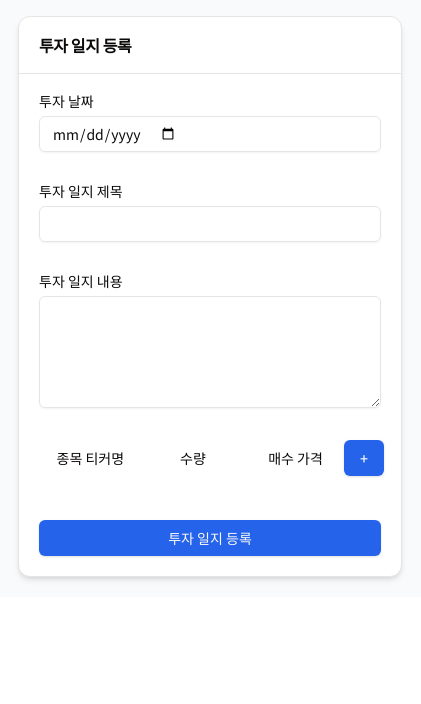
Test: DiaryAdd Test › 종목 추가 버튼 클릭 시 화면 렌더링
Click the button named "insert_asset_button": (364, 458) [344,440,384,476]
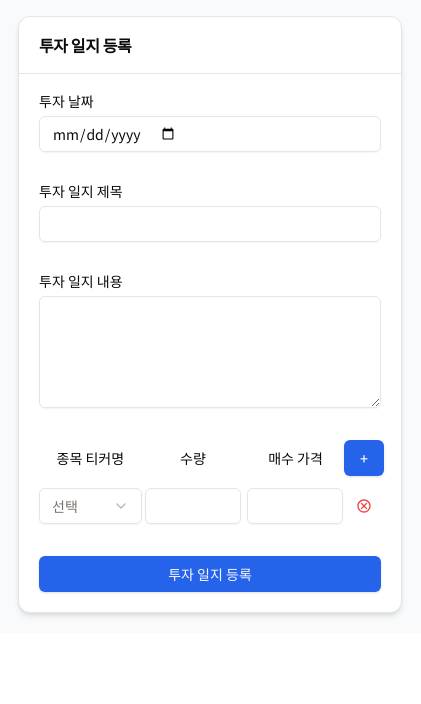
Click the button named "insert_asset_button": (364, 458) [344,440,384,476]
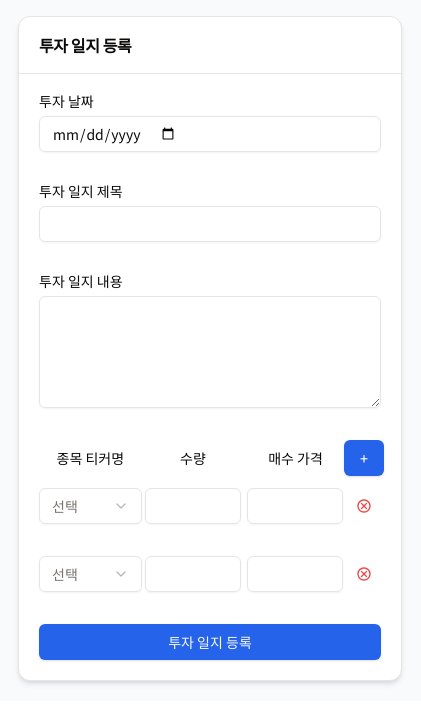
expect the number of dropdowns is 2: met, box [39,488,142,524]; [39,556,142,592]
expect the number of number fields named "amount" is 2: met, box [145,488,241,524]; [145,556,241,592]
expect the number of number fields named "buy_price" is 2: met, box [248,488,344,524]; [248,556,344,592]
